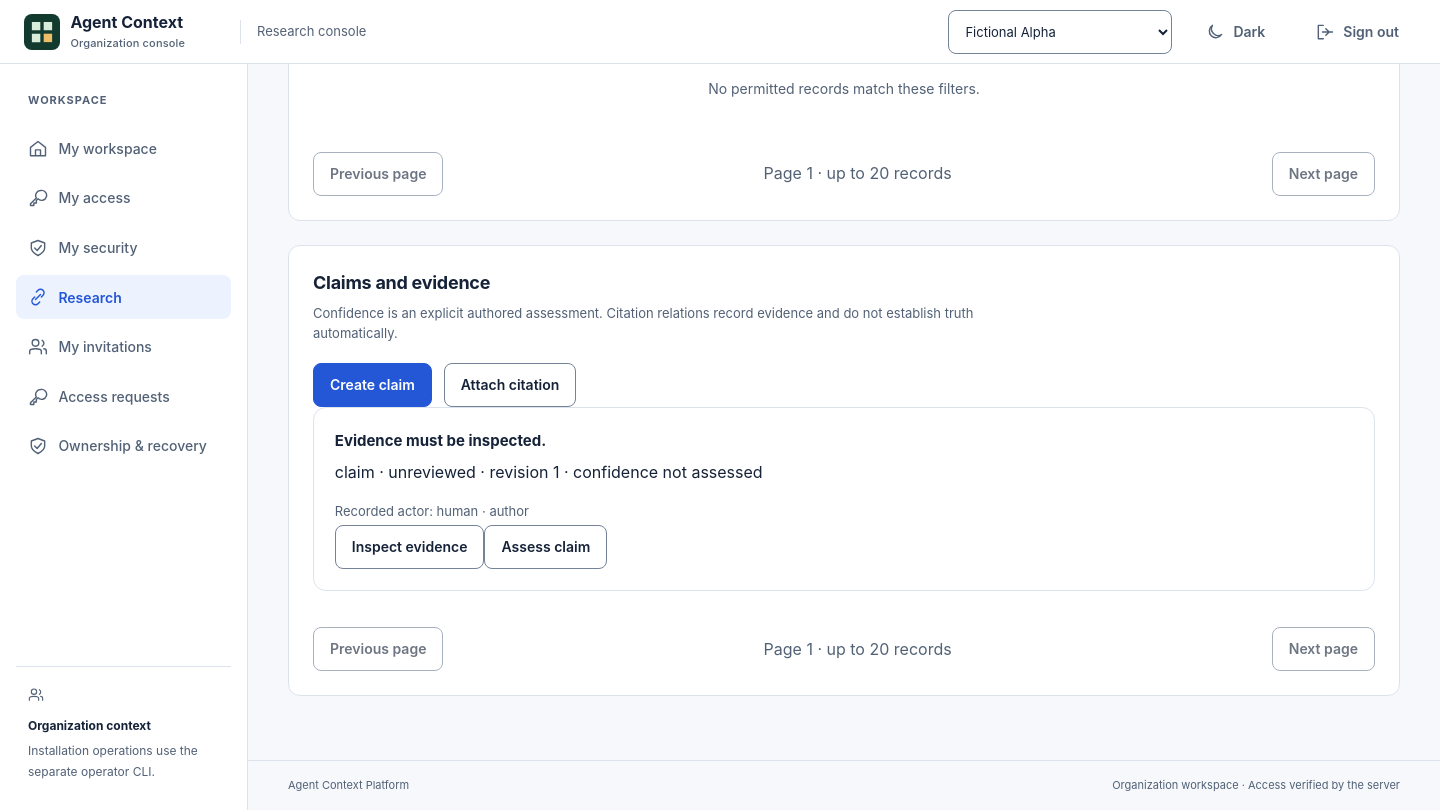
Test case: research evidence › separates unassessed confidence from bounded supporting and contradicting evidence
The width and height of the screenshot is (1440, 810).
(page scrolled)
Click the button "Inspect evidence": (410, 547) 335,525 -> 484,569
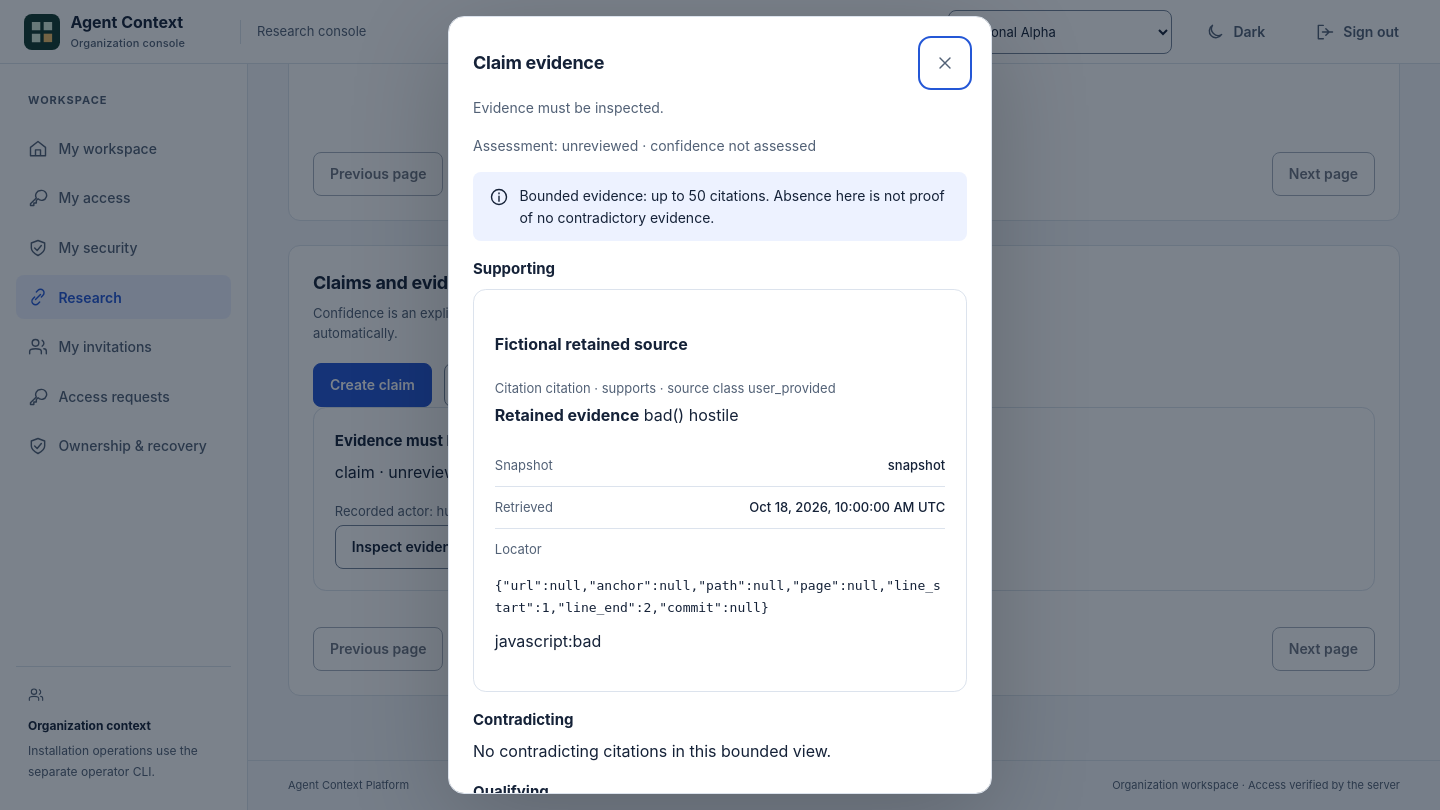
Check: the text "up to 50 citations" is shown, box 519,185 -> 951,229
Check: the text "Assessment: unreviewed · confidence not assessed" is shown, box 473,137 -> 816,154
Check: the text "No contradicting citations in this bounded view." is shown, box 473,741 -> 831,761
